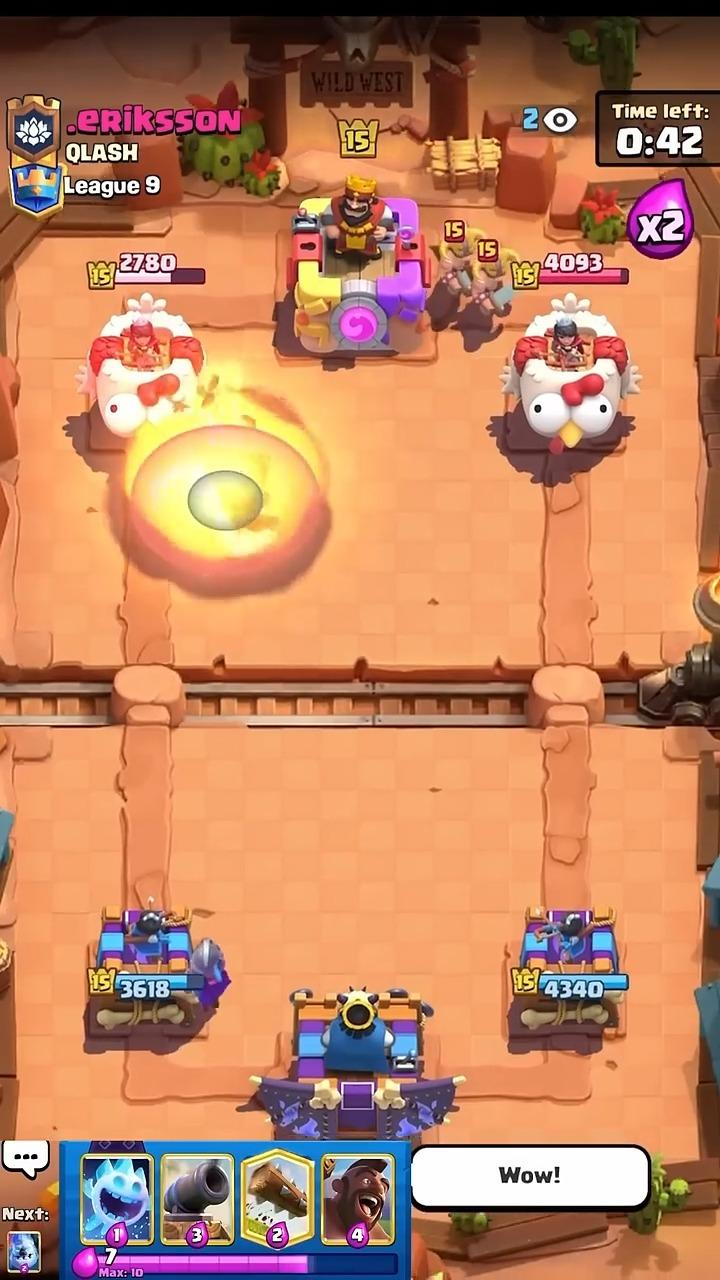elite barbarians: (438, 229, 518, 349)
fireball: (127, 414, 327, 592)
